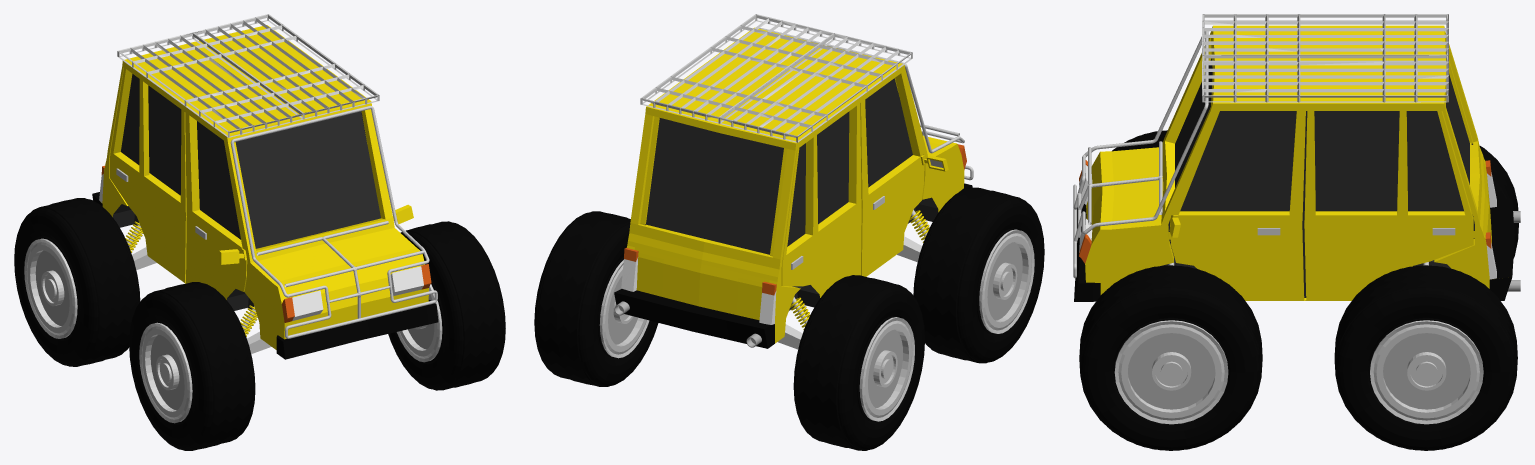
The picture shows the model from 3 angles, left to right: view 1: azimuth 30°, elevation 25°; view 2: azimuth 150°, elevation 25°; view 3: azimuth 270°, elevation 25°; orthographic projection. The views are drawn at different scales.
Parts seen in each view (by area): view 1: BODY30, WHEEL.001, WHEEL.004, WHEEL.003, FRAME; view 2: BODY30, WHEEL.004, WHEEL.001, WHEEL.002, FRAME; view 3: BODY30, WHEEL.003, WHEEL.002, FRAME, WHEEL.004, WHEEL.001.
Part boxes in pixels (x1=…): BODY30: x1=92, y1=14, x2=438, y2=359; WHEEL.001: x1=129, y1=282, x2=255, y2=450; WHEEL.004: x1=14, y1=198, x2=140, y2=366; WHEEL.003: x1=388, y1=221, x2=505, y2=390; FRAME: x1=230, y1=105, x2=437, y2=338; BODY30: x1=614, y1=14, x2=972, y2=349; WHEEL.004: x1=793, y1=275, x2=924, y2=450; WHEEL.001: x1=913, y1=187, x2=1044, y2=363; WHEEL.002: x1=534, y1=211, x2=658, y2=386; FRAME: x1=759, y1=28, x2=973, y2=180; BODY30: x1=1074, y1=14, x2=1520, y2=301; WHEEL.003: x1=1079, y1=265, x2=1262, y2=450; WHEEL.002: x1=1334, y1=265, x2=1517, y2=450; FRAME: x1=1073, y1=31, x2=1208, y2=278; WHEEL.004: x1=1479, y1=146, x2=1518, y2=258; WHEEL.001: x1=1112, y1=130, x2=1167, y2=151.
Bounding box in the file's own units: 168 × 151 × 193.
